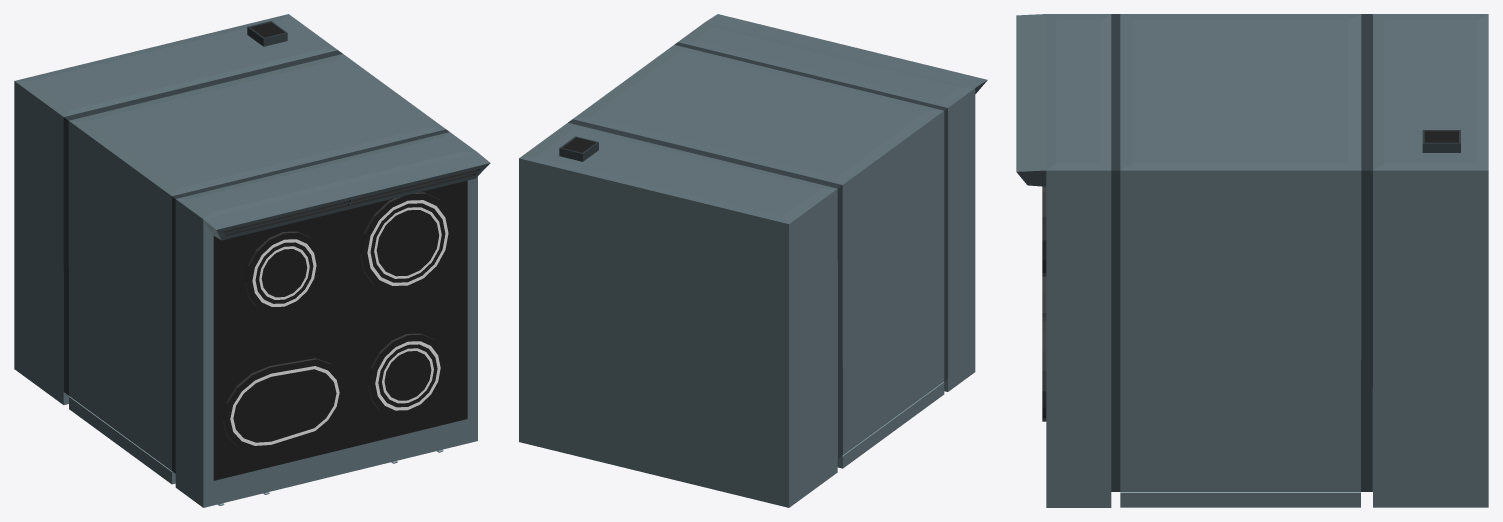
File: stove-asset---home-appliances-e4a1aa.glb
3 renders of one model, left to right at view 1: azimuth 30°, elevation 25°; view 2: azimuth 150°, elevation 25°; view 3: azimuth 270°, elevation 25°, orthographic. The views are drawn at different scales.
Visible parts, largest first — view 1: PropMesh; view 2: PropMesh; view 3: PropMesh.
Part boxes in pixels (<box>): PropMesh: <box>14,14,490,507</box>; PropMesh: <box>519,14,987,507</box>; PropMesh: <box>1016,14,1488,507</box>.
Bounding box in the file's own units: 1.98 × 2.2 × 2.53.
Materials: 1 (1 with a texture image).
